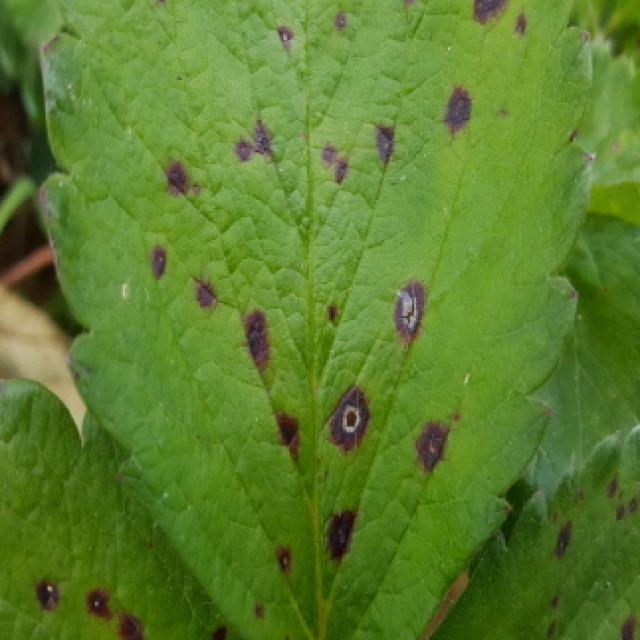Leaf Spot: (30, 0, 600, 640), (0, 379, 243, 640), (429, 422, 640, 640)
